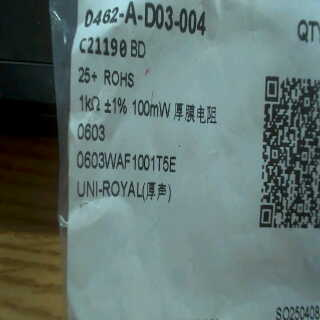1kR: (71, 88, 103, 117)
